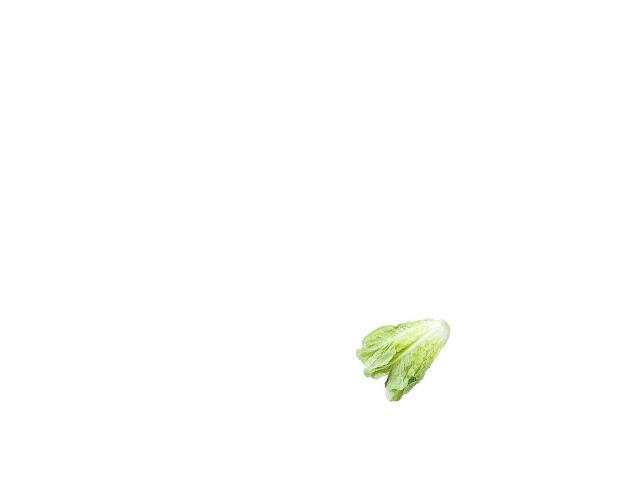lettuce: (356, 310, 455, 405)
